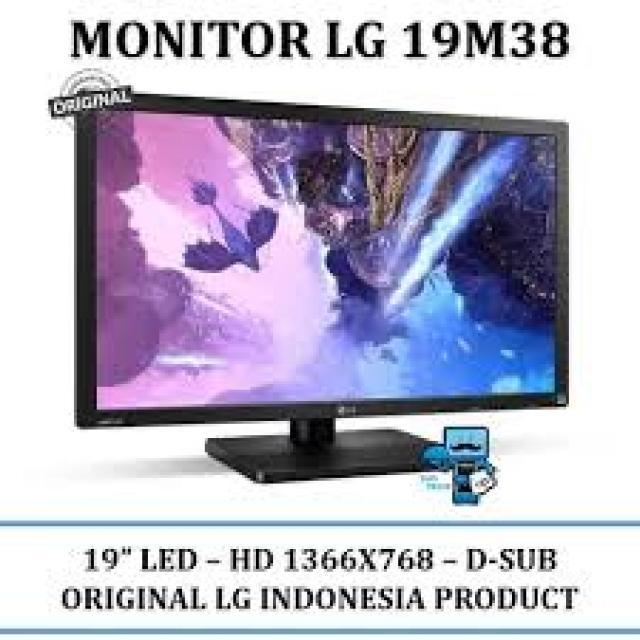monitor: (41, 80, 582, 490)
